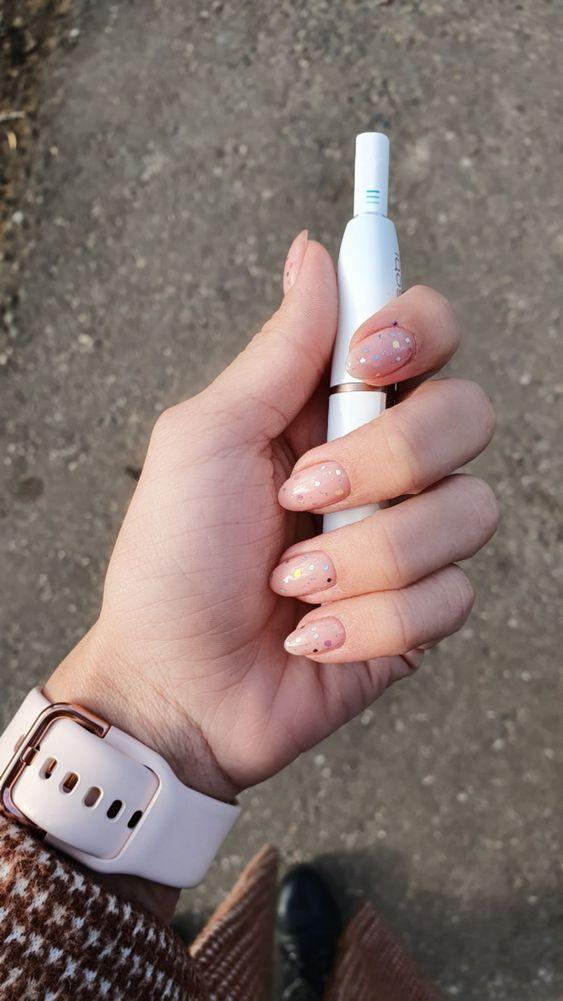iqos: (321, 130, 403, 533)
